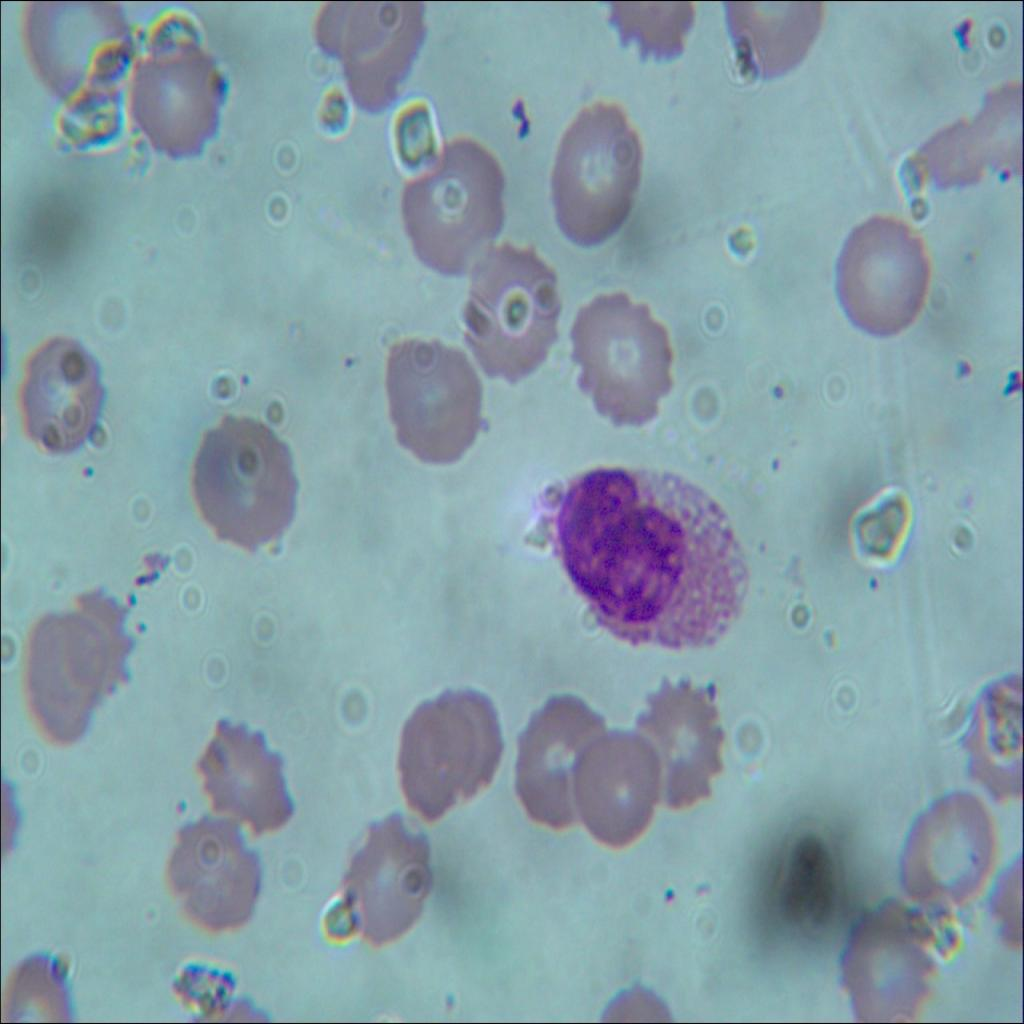Eritrosit: (454, 230, 566, 388), (546, 98, 650, 257), (568, 284, 676, 432), (823, 206, 935, 344), (378, 332, 494, 458), (186, 708, 294, 838), (626, 678, 730, 812), (514, 691, 604, 831), (834, 898, 932, 1023), (902, 784, 996, 912), (19, 609, 108, 741), (342, 819, 438, 941), (161, 815, 263, 929), (578, 721, 660, 848), (426, 675, 506, 795), (396, 699, 471, 819), (61, 584, 138, 698)
Limfoblast: (550, 458, 746, 652)
Platelet: (186, 414, 304, 556), (403, 139, 509, 275), (16, 338, 110, 472), (134, 38, 226, 168), (18, 0, 118, 105), (343, 2, 424, 111), (318, 0, 396, 62), (74, 446, 108, 498), (860, 569, 898, 608), (949, 351, 979, 398), (658, 870, 688, 909), (761, 371, 786, 417), (992, 148, 1018, 186), (759, 451, 789, 481), (336, 338, 358, 376), (231, 362, 253, 394)
